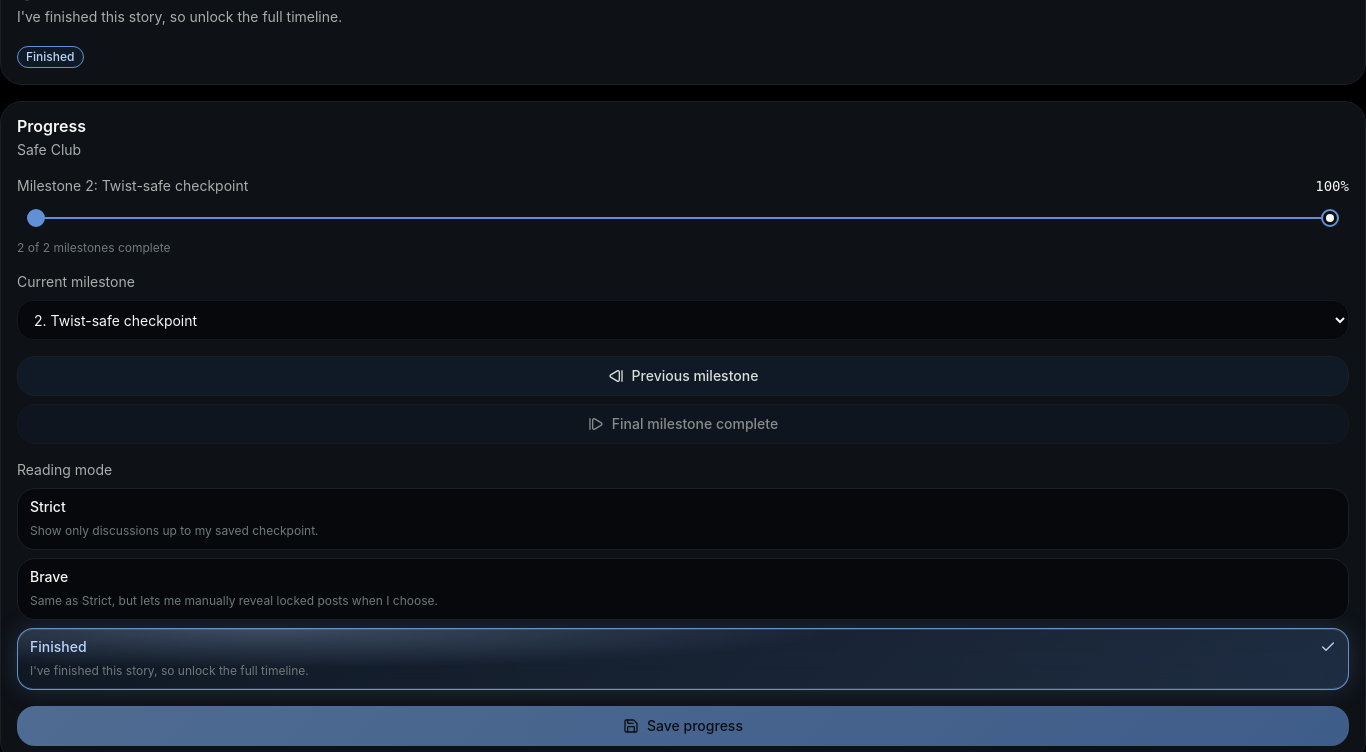
Scenario: frontend regression smoke › rewinds Finished progress and refetches open spoiler content as locked
The width and height of the screenshot is (1366, 752).
(page scrolled)
Click the button "Previous milestone": (683, 376) x1=17 y1=356 x2=1349 y2=396
(page scrolled)
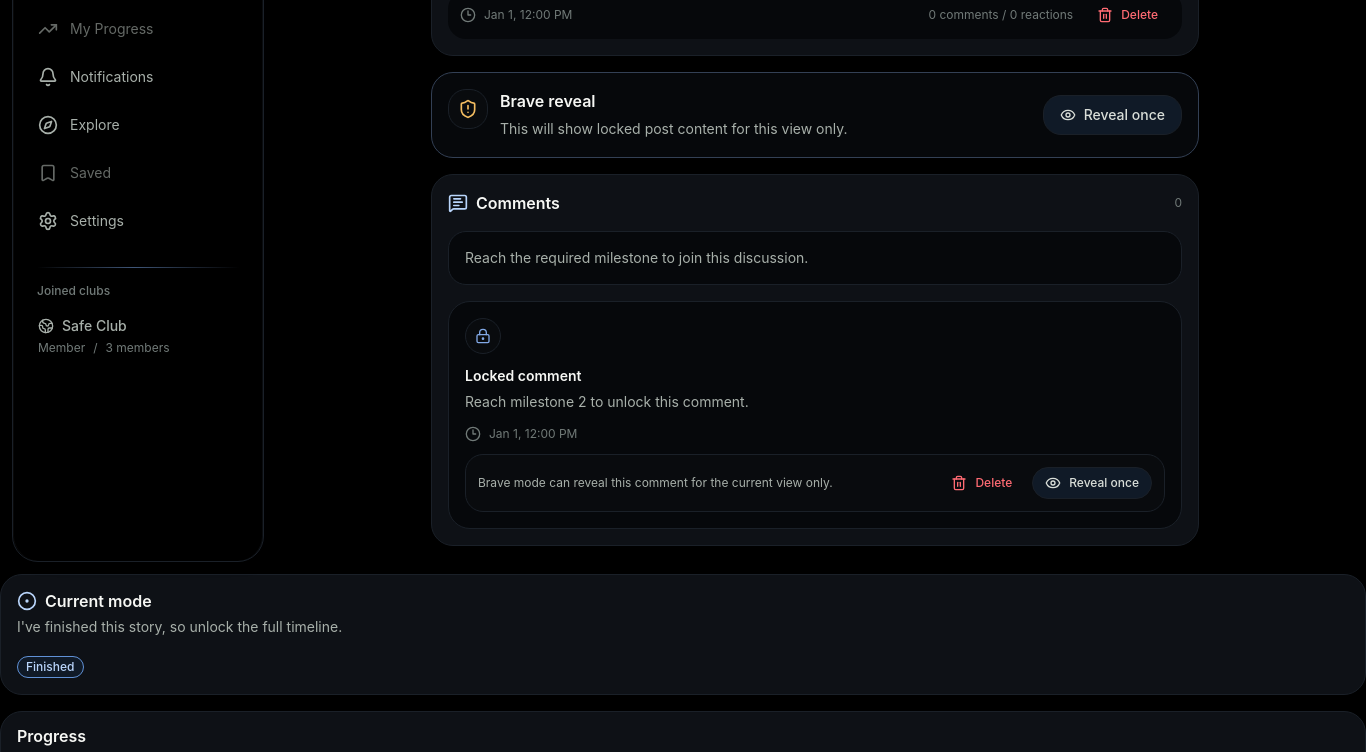
Now the heading "Locked comment" is shown, box x1=465 y1=367 x2=582 y2=384
